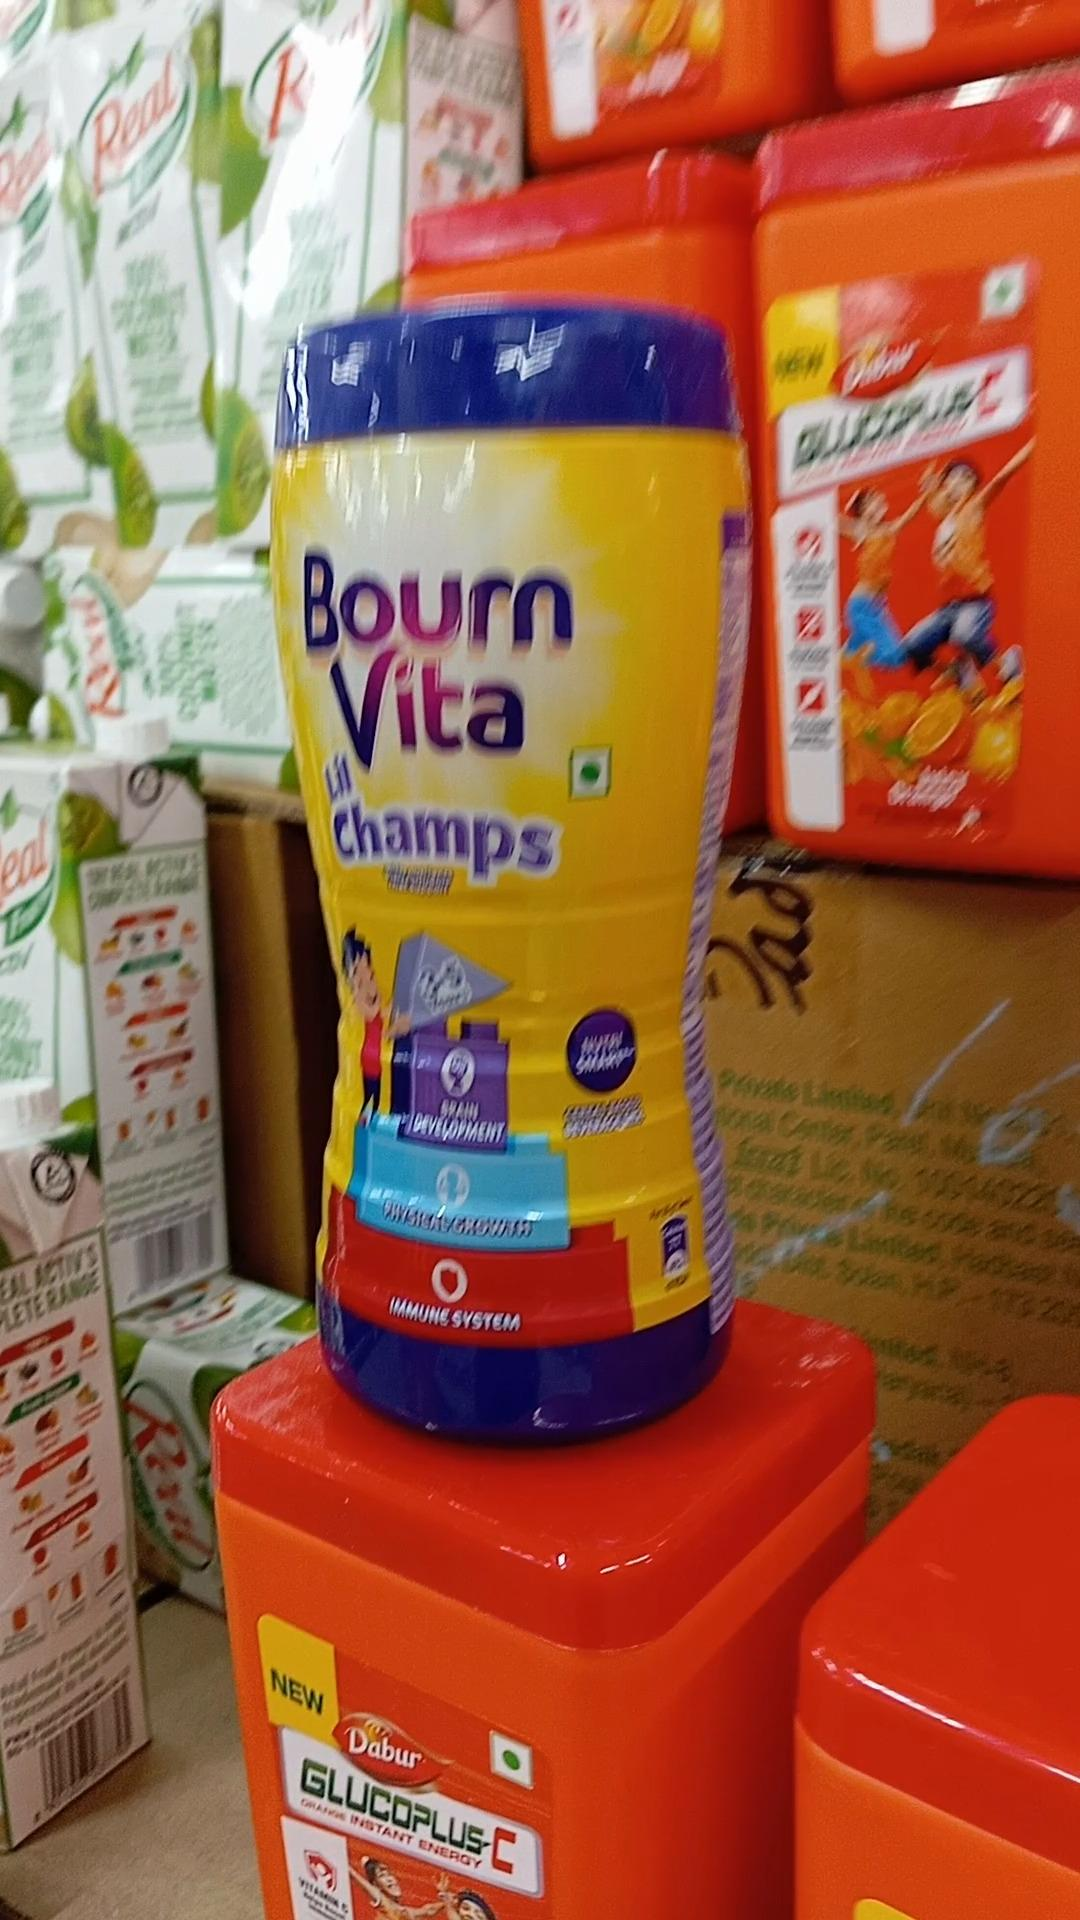BOURN_VITA_CHAMPS_500_G_JAR: (277, 298, 712, 1444)
